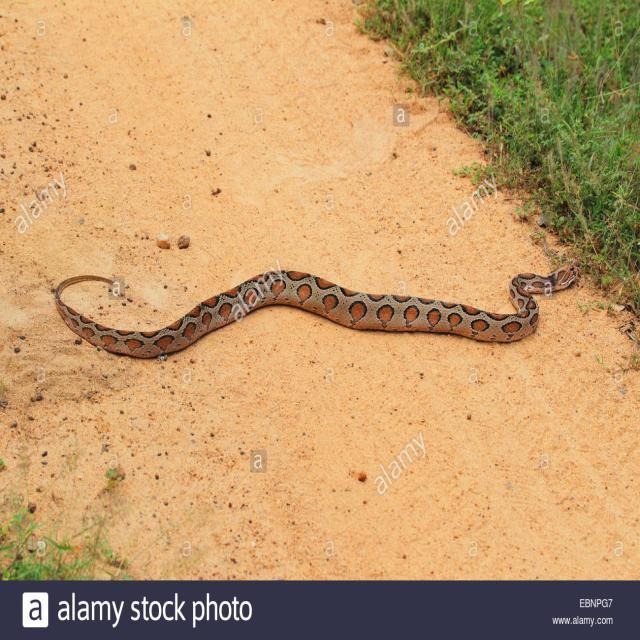Snake: (53, 258, 580, 360)
